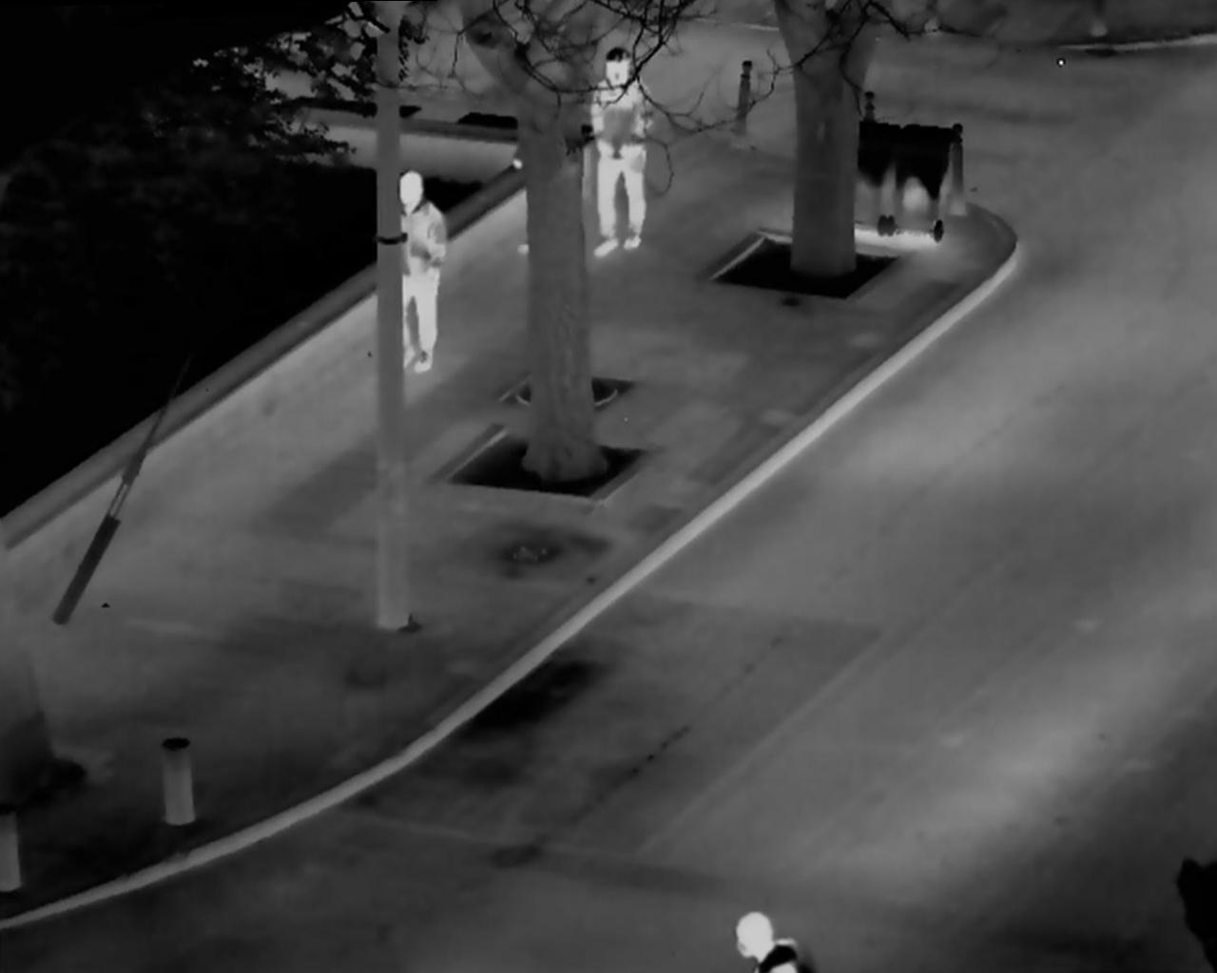person: (579, 34, 684, 272), (380, 157, 454, 370), (730, 909, 804, 973)
